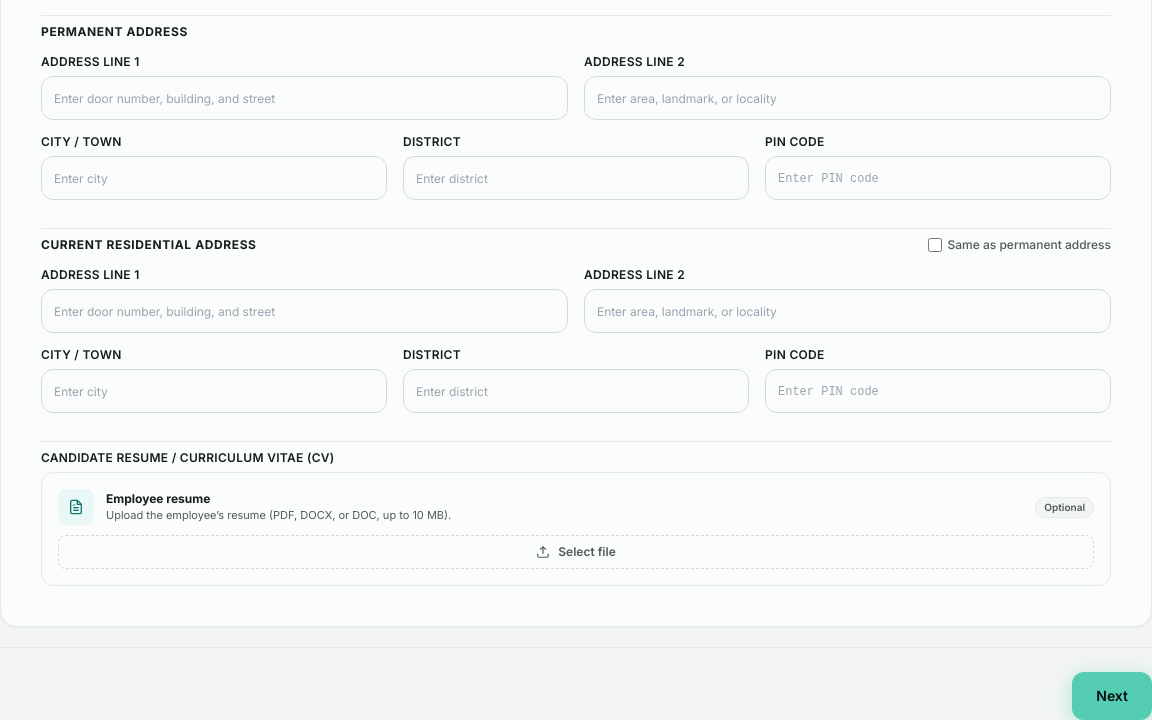
Test: CreateEmployeePage Component (Issue #20) › shows step titles without descriptions and uses text navigation labels
(page scrolled)
Click the button with test id "next-step-button": x=1112, y=696 [1072,672,1151,719]
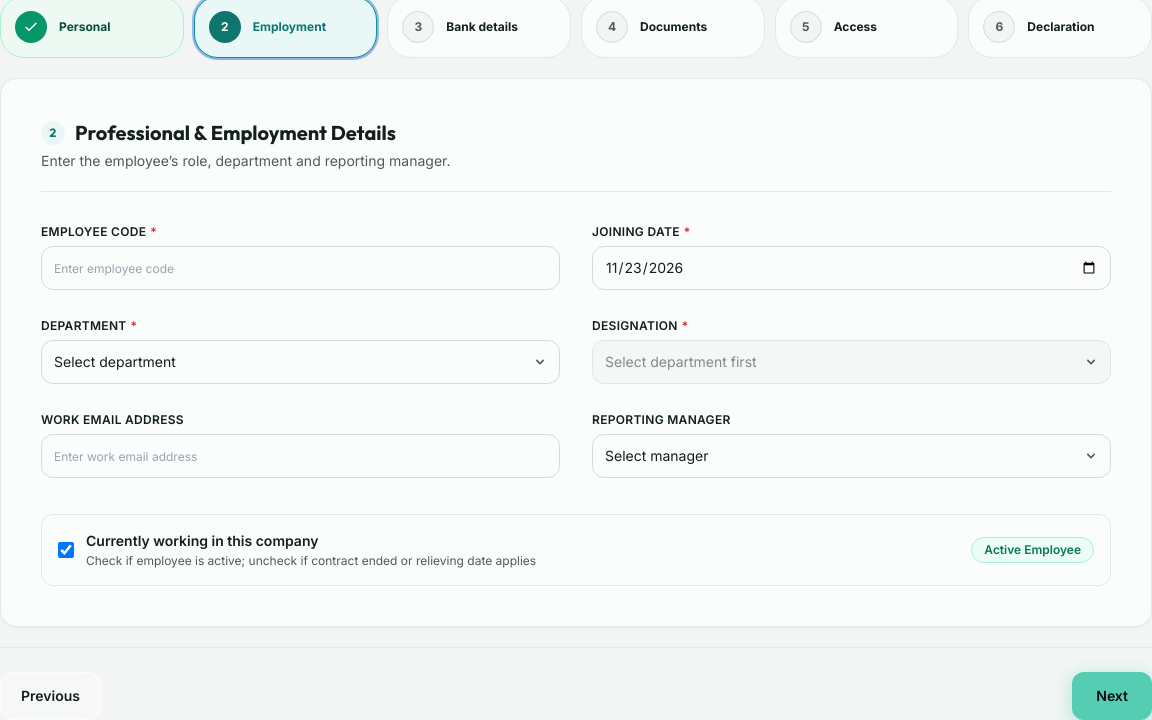
expect the button with test id "prev-step-button" does not show "←": met, box [0,672,101,719]
expect the button with test id "prev-step-button" reads "Previous": met, box [0,672,101,719]
